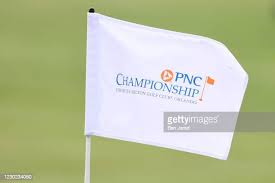Flag: (84, 11, 249, 160)
